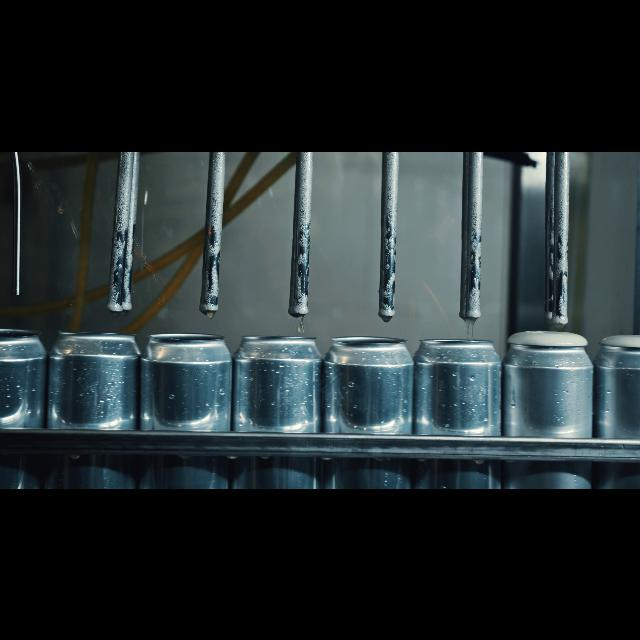empty: (52, 322, 138, 488), (147, 324, 230, 488), (414, 328, 498, 488), (238, 326, 320, 488), (326, 328, 408, 488), (2, 318, 46, 488)
full: (504, 329, 594, 489), (600, 330, 640, 488)
